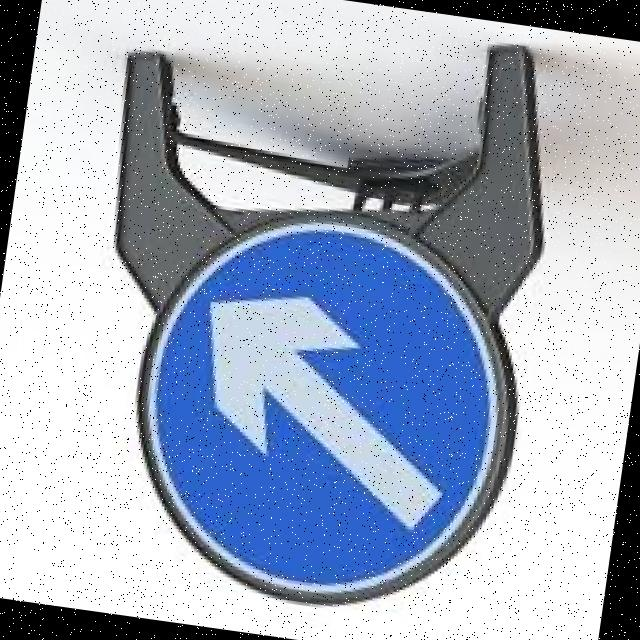compulsory_keep_right: (107, 189, 538, 624)
